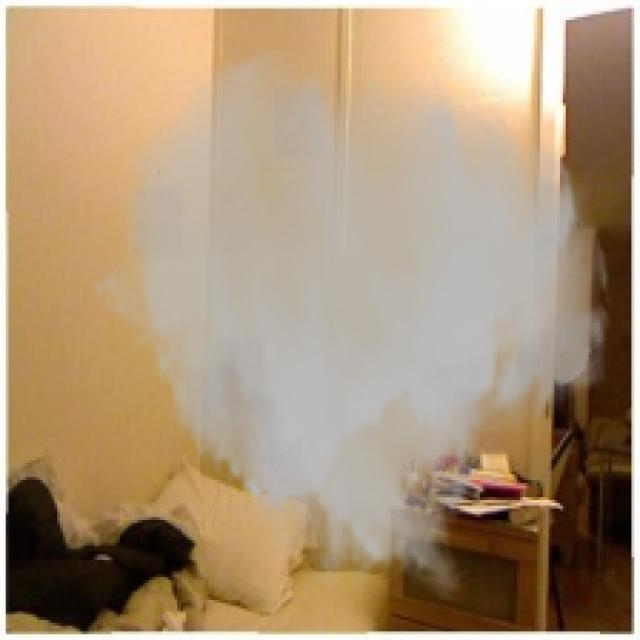Smoke: (91, 46, 614, 603)
